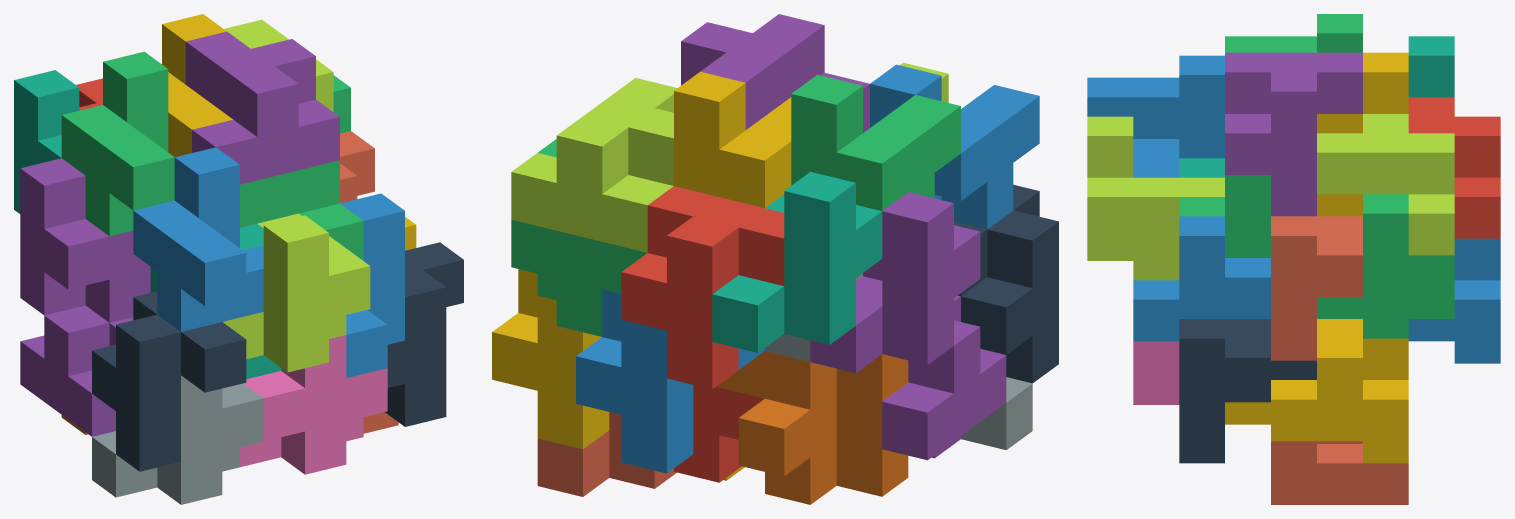
File: corona.obj
The picture shows the model from 3 angles, left to right: view 1: azimuth 30°, elevation 25°; view 2: azimuth 150°, elevation 25°; view 3: azimuth 270°, elevation 25°; orthographic projection. The views are drawn at different scales.
Visible parts, largest first — view 1: copy_28, copy_1, copy_20, copy_2, copy_16, copy_10, copy_9, copy_8, copy_11, copy_4, copy_25, copy_14 (+9 smaller); view 2: copy_12, copy_22, copy_18, copy_16, copy_2, copy_20, copy_13, copy_3, copy_1, copy_4, copy_15, copy_17 (+7 smaller); view 3: copy_28, copy_15, copy_10, copy_22, copy_8, copy_1, copy_26, copy_25, copy_7, copy_19, copy_12, copy_13 (+7 smaller).
Boxes of the visible parts, x1,y1,x2,y2 form: copy_28: [185, 31, 339, 184]; copy_1: [133, 147, 263, 331]; copy_20: [92, 291, 246, 471]; copy_2: [61, 51, 174, 236]; copy_16: [20, 158, 150, 322]; copy_10: [223, 213, 370, 372]; copy_9: [92, 375, 263, 504]; copy_8: [385, 242, 463, 426]; copy_11: [240, 335, 387, 474]; copy_4: [20, 305, 133, 436]; copy_25: [340, 193, 404, 377]; copy_14: [240, 160, 363, 260]; copy_12: [621, 186, 784, 389]; copy_22: [511, 78, 677, 252]; copy_18: [712, 172, 882, 352]; copy_16: [810, 192, 980, 373]; copy_2: [791, 74, 960, 210]; copy_20: [954, 184, 1058, 383]; copy_13: [576, 289, 764, 473]; copy_3: [674, 71, 791, 208]; copy_1: [870, 64, 1039, 229]; copy_4: [882, 295, 1006, 460]; copy_15: [492, 269, 609, 449]; copy_17: [765, 354, 908, 504]; copy_28: [1225, 52, 1362, 216]; copy_15: [1271, 319, 1408, 463]; copy_10: [1087, 116, 1224, 280]; copy_22: [1317, 114, 1454, 255]; copy_8: [1179, 319, 1316, 463]; copy_1: [1087, 55, 1224, 177]; copy_26: [1317, 194, 1454, 338]; copy_25: [1133, 216, 1270, 341]; copy_7: [1271, 216, 1362, 360]; copy_19: [1271, 441, 1408, 504]; copy_12: [1408, 97, 1500, 238]; copy_13: [1408, 238, 1500, 363].
Bounding box in the file's own units: 9 × 9 × 9.
